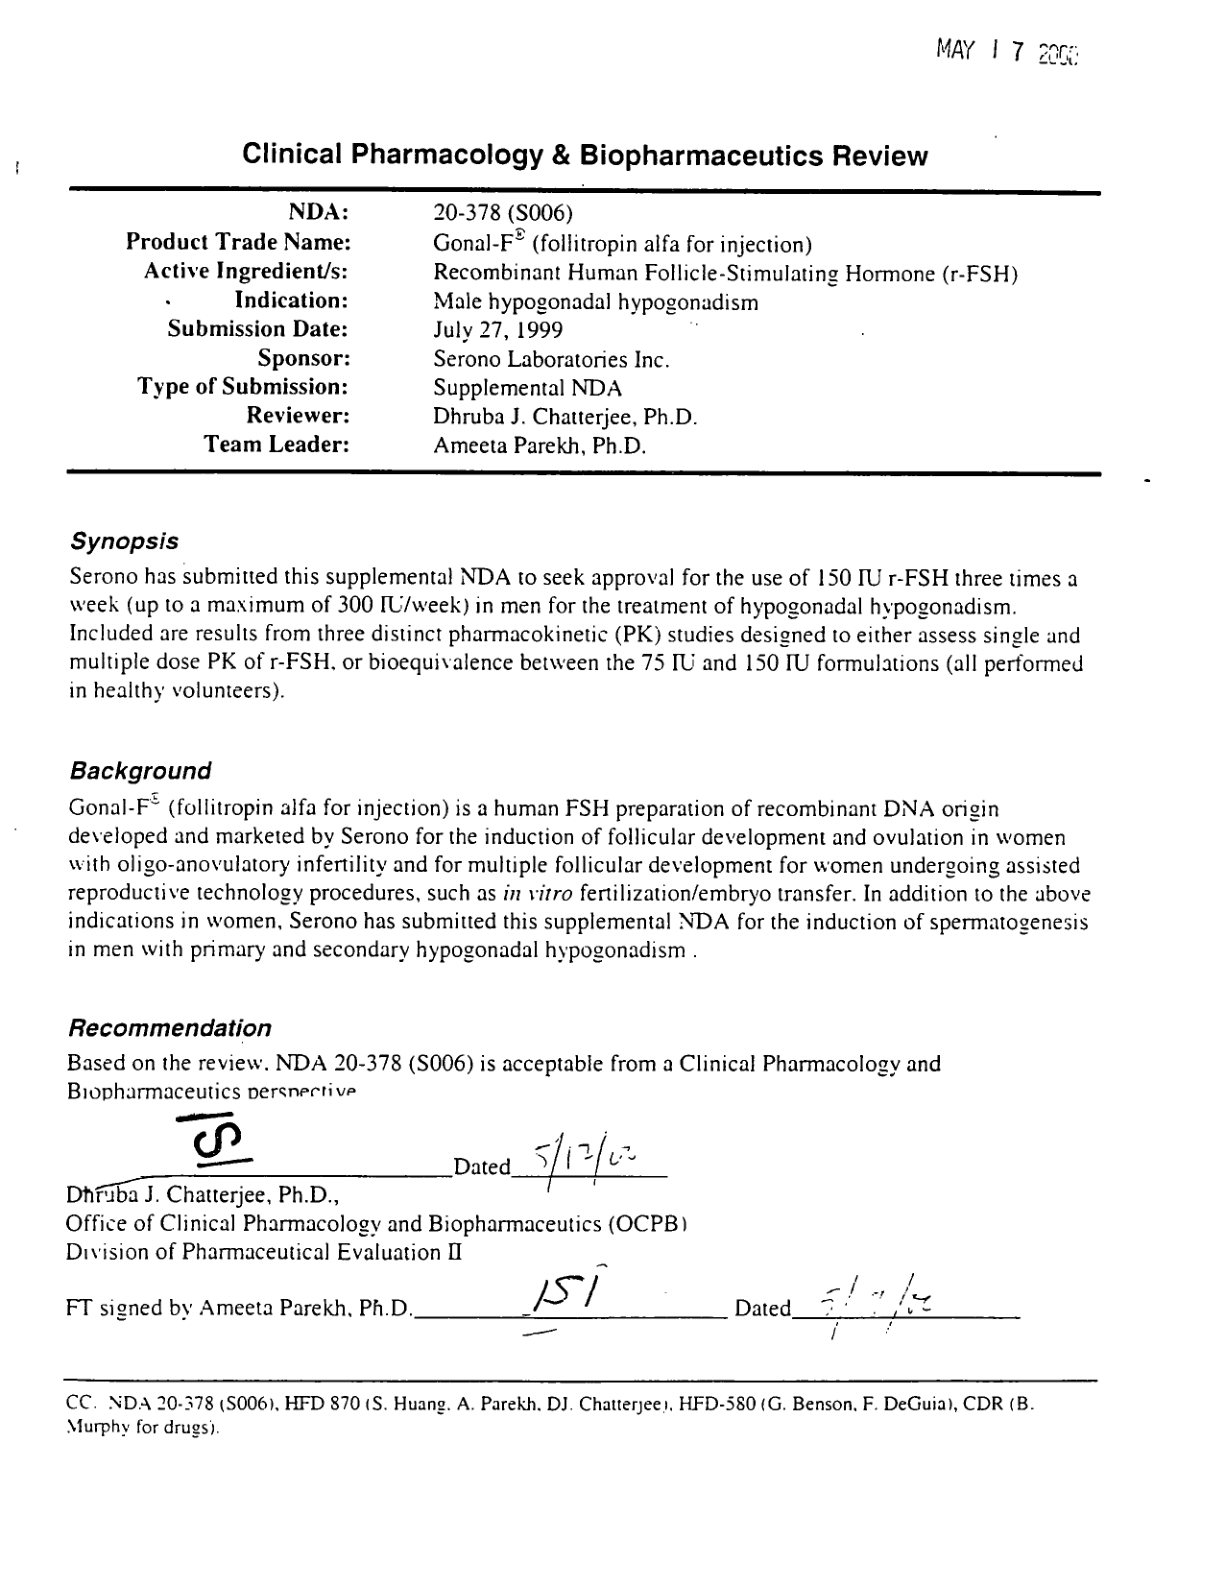partial_lined: (64, 184, 1106, 477)
